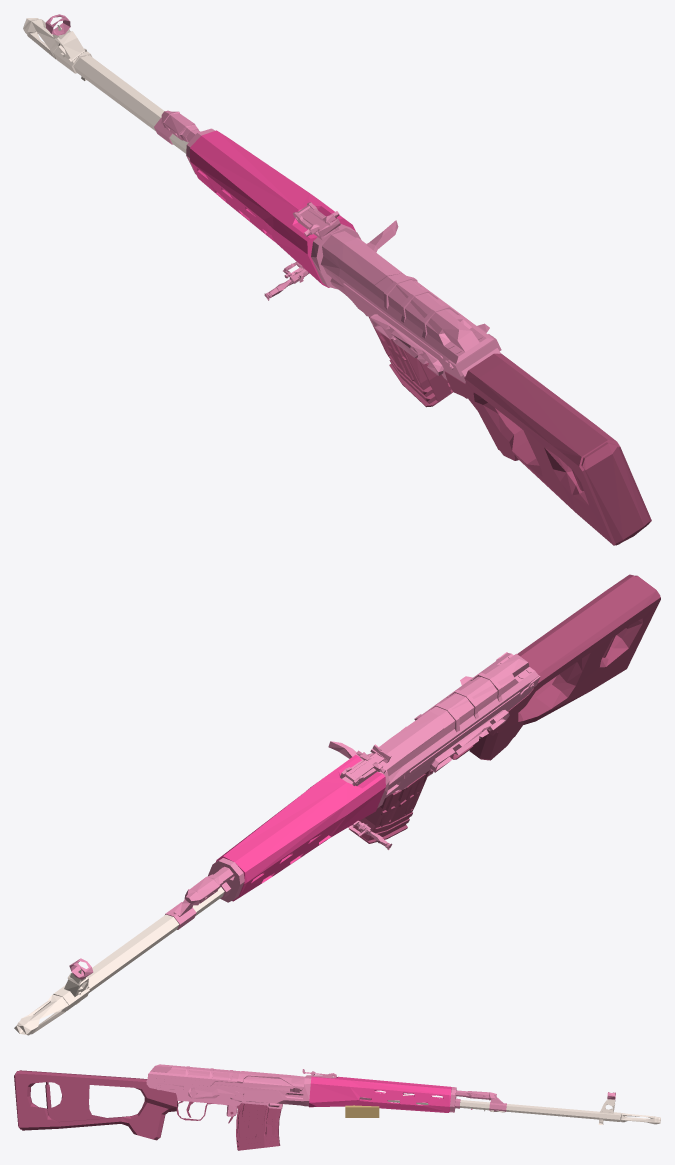
Rendered from Marksman_SVD.obj.
The picture shows the model from 3 angles, top to bottom: view 1: azimuth 30°, elevation 25°; view 2: azimuth 150°, elevation 25°; view 3: azimuth 270°, elevation 25°; orthographic projection. The views are drawn at different scales.
Parts seen in each view (by area): view 1: Grip, Body, Accent, Panel, Mag; view 2: Body, Grip, Accent, Panel, Mag; view 3: Body, Grip, Accent, Mag, Panel, Bolt.
Part boxes in pixels (x1,y1,x2,y2): Grip: [444, 353, 651, 545]; Body: [45, 14, 501, 383]; Accent: [189, 130, 355, 287]; Panel: [23, 18, 188, 153]; Mag: [368, 316, 518, 460]; Body: [69, 652, 540, 979]; Grip: [469, 574, 660, 759]; Accent: [216, 754, 385, 901]; Panel: [14, 887, 224, 1035]; Mag: [349, 740, 511, 843]; Body: [146, 1064, 615, 1116]; Grip: [14, 1070, 177, 1137]; Accent: [309, 1076, 451, 1112]; Mag: [129, 1101, 281, 1150]; Panel: [380, 1093, 660, 1124]; Bolt: [345, 1105, 379, 1117].
Bounding box in the file's own units: 0.352 × 0.4828 × 3.8.
